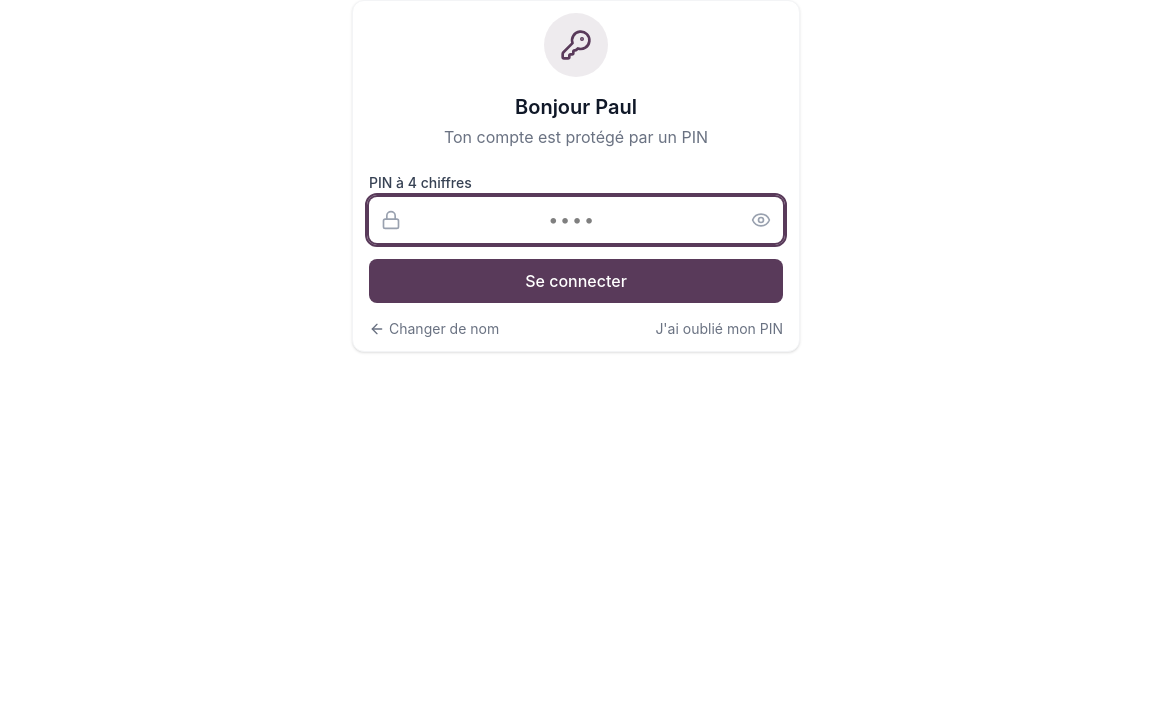
Test case: SecurityModal — profil AVEC PIN › change le PIN si l’ancien est correct
Type "1111" into the password field labelled "PIN à 4 chiffres" at (576, 220), box [369,197,783,243]
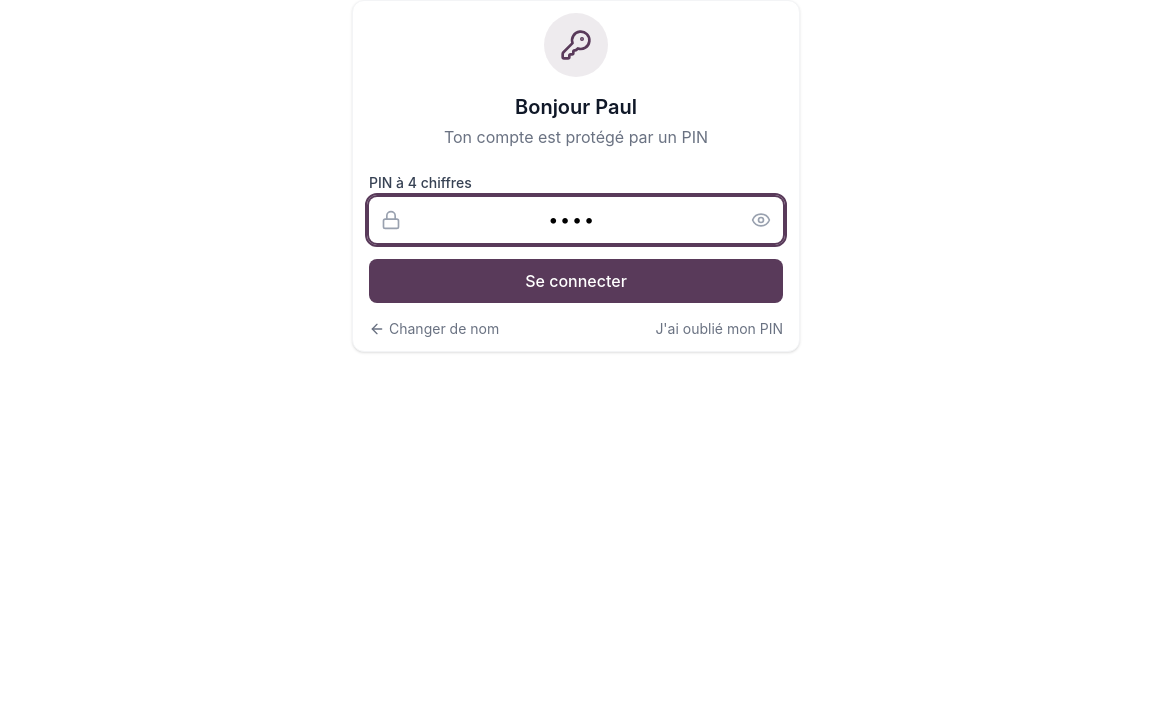
Click the button "Se connecter" at (576, 281), box [369,259,783,303]
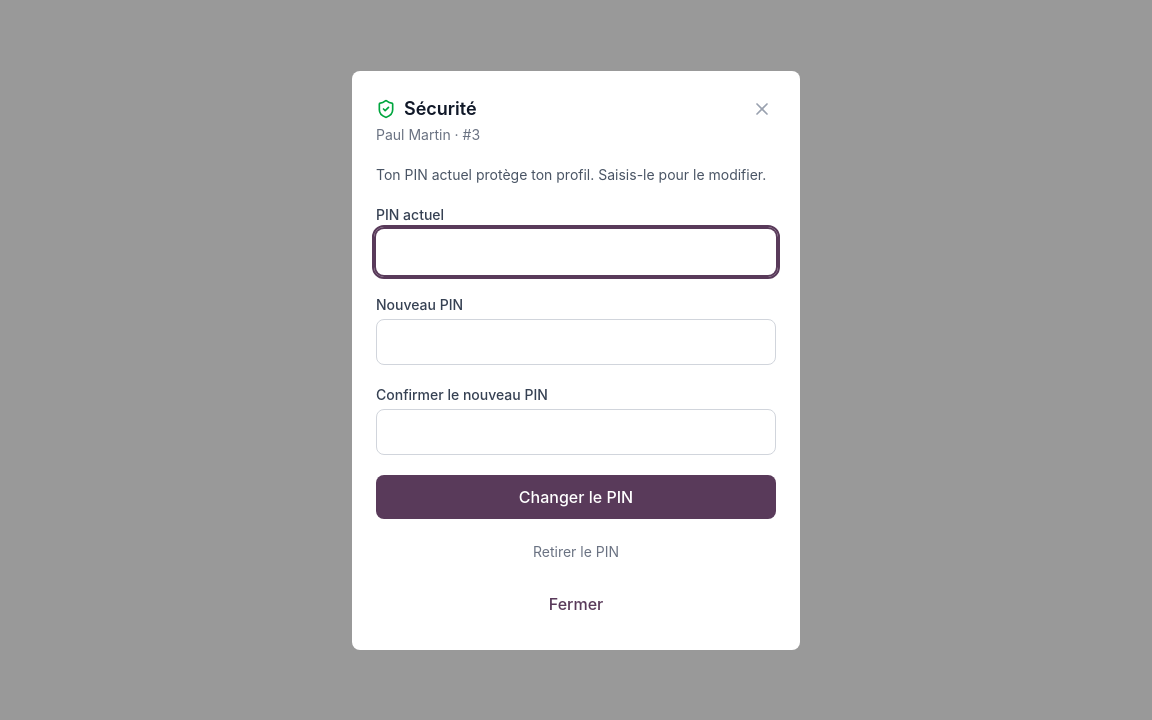
Type "1111" into the password field labelled "PIN actuel" at (576, 252), box [376,228,776,274]
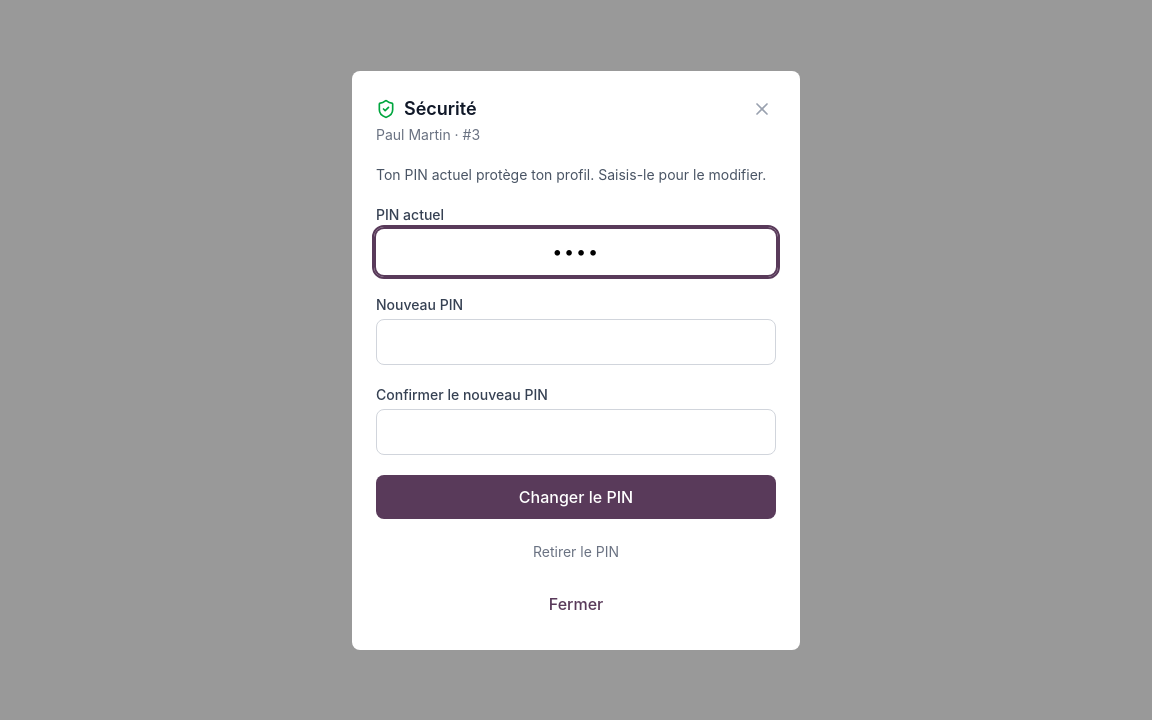
Type "5678" into the password field labelled "Nouveau PIN" at (576, 342), box [376,318,776,364]
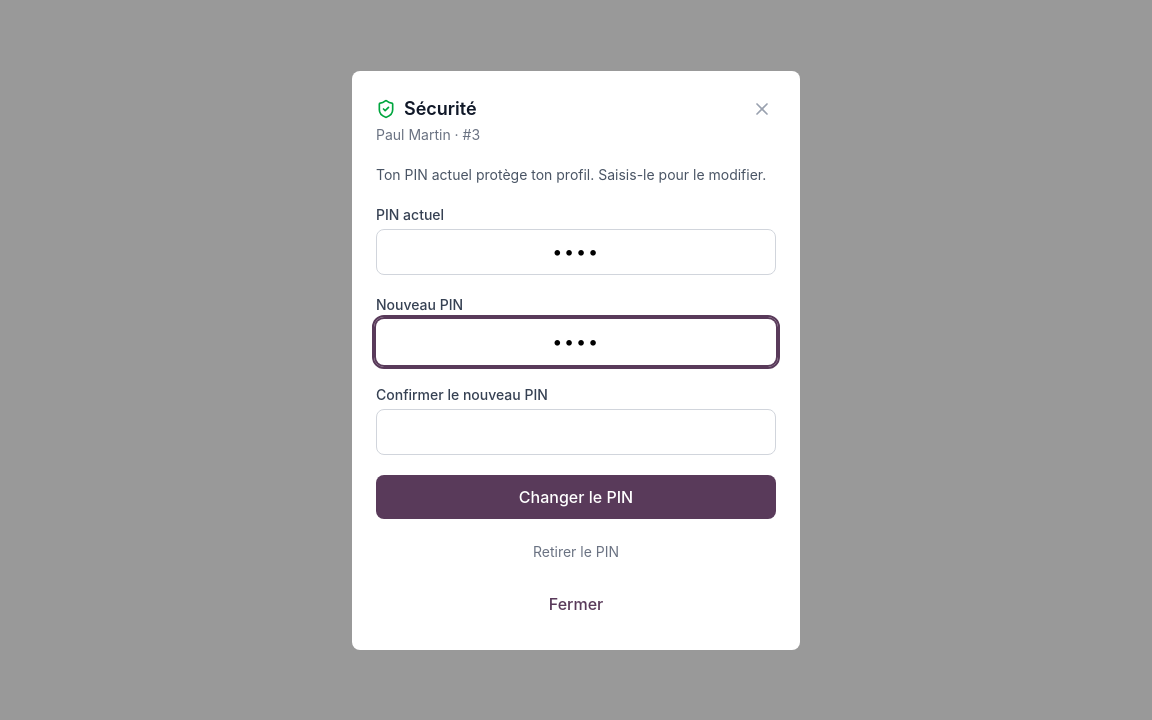
Type "5678" into the password field labelled "Confirmer le nouveau PIN" at (576, 432), box [376,408,776,454]
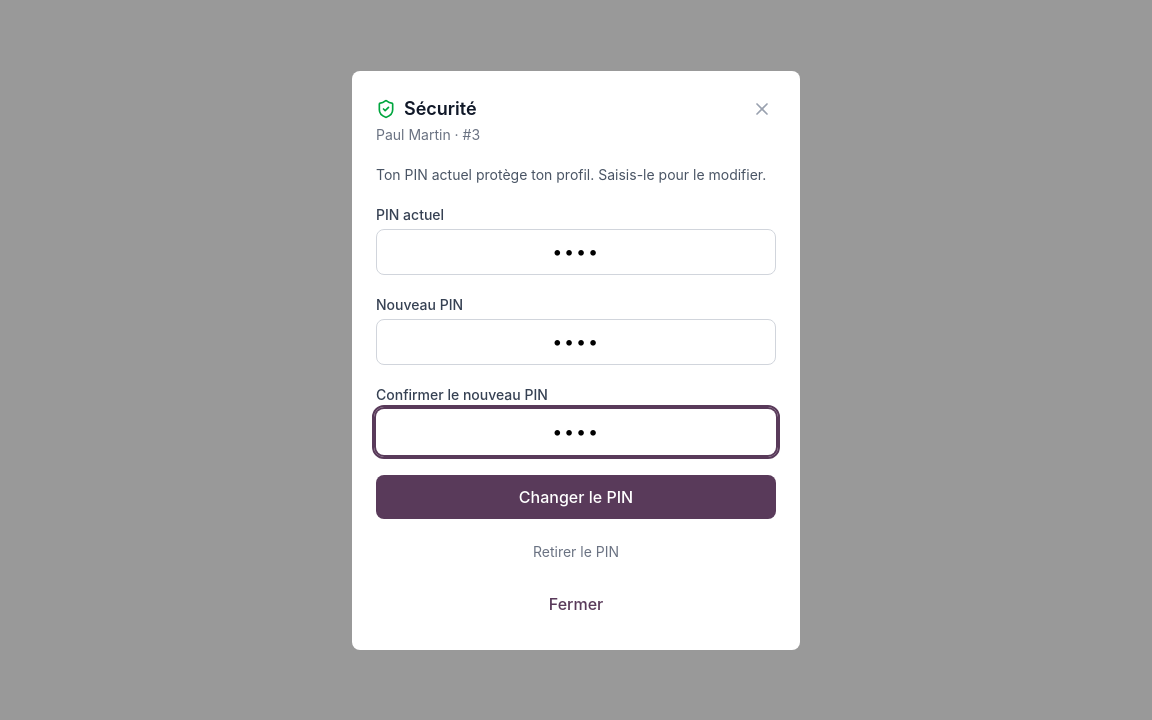
Click the button "Changer le PIN" at (576, 496), box [376,474,776,518]
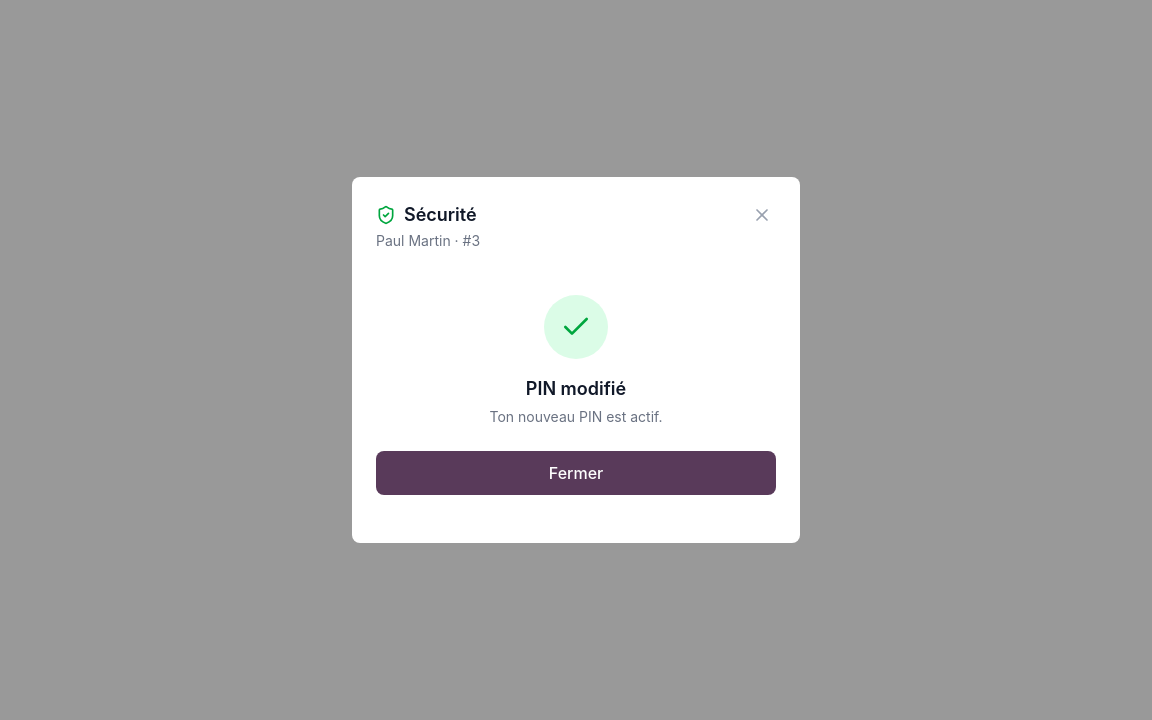
Check: the text "PIN modifié" is shown, box [526,378,626,399]
Check: the text labelled "PIN actuel" is gone
